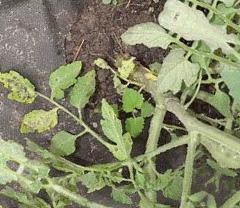Tomato Septoria leaf spot: (13, 92, 66, 149), (0, 62, 46, 109)
